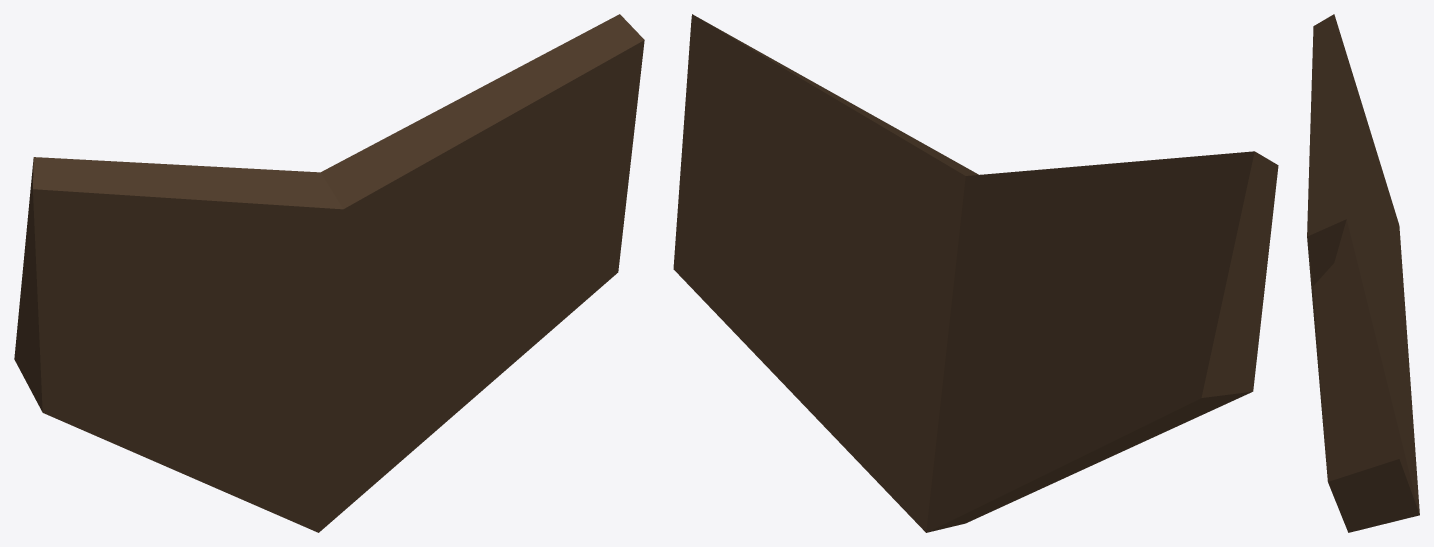
Rendered from Vello_BarbaMenton.fbx.
3 renders of one model, left to right at view 1: azimuth 30°, elevation 25°; view 2: azimuth 150°, elevation 25°; view 3: azimuth 270°, elevation 25°, orthographic. The views are drawn at different scales.
Visible parts, largest first — view 1: Barba_Piocha; view 2: Barba_Piocha; view 3: Barba_Piocha.
Part boxes in pixels (left/top/right/bottom): Barba_Piocha: left=14, top=14, right=644, bottom=532; Barba_Piocha: left=673, top=14, right=1278, bottom=532; Barba_Piocha: left=1307, top=14, right=1419, bottom=532.
Size of the model in its own units: 0.5936 by 0.4204 by 0.1091.
